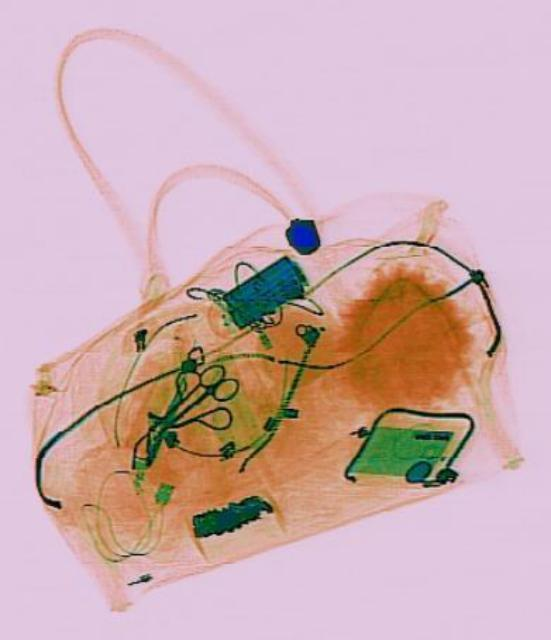Scissors: (145, 353, 240, 447)
